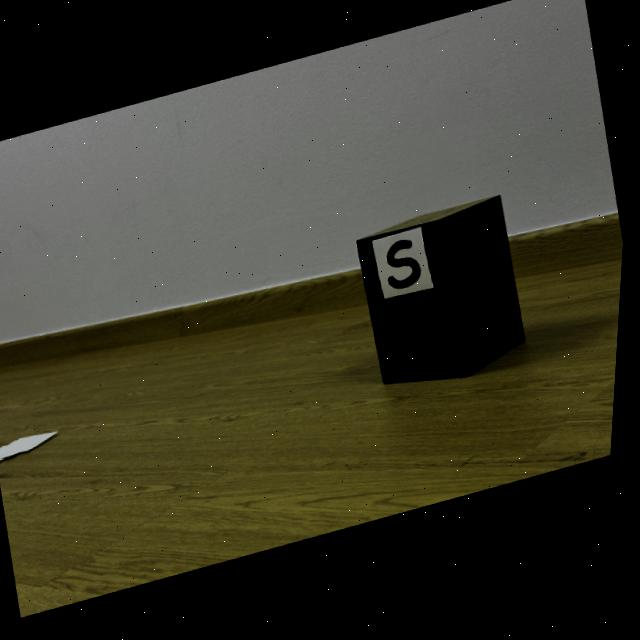S: (390, 245, 424, 294)
